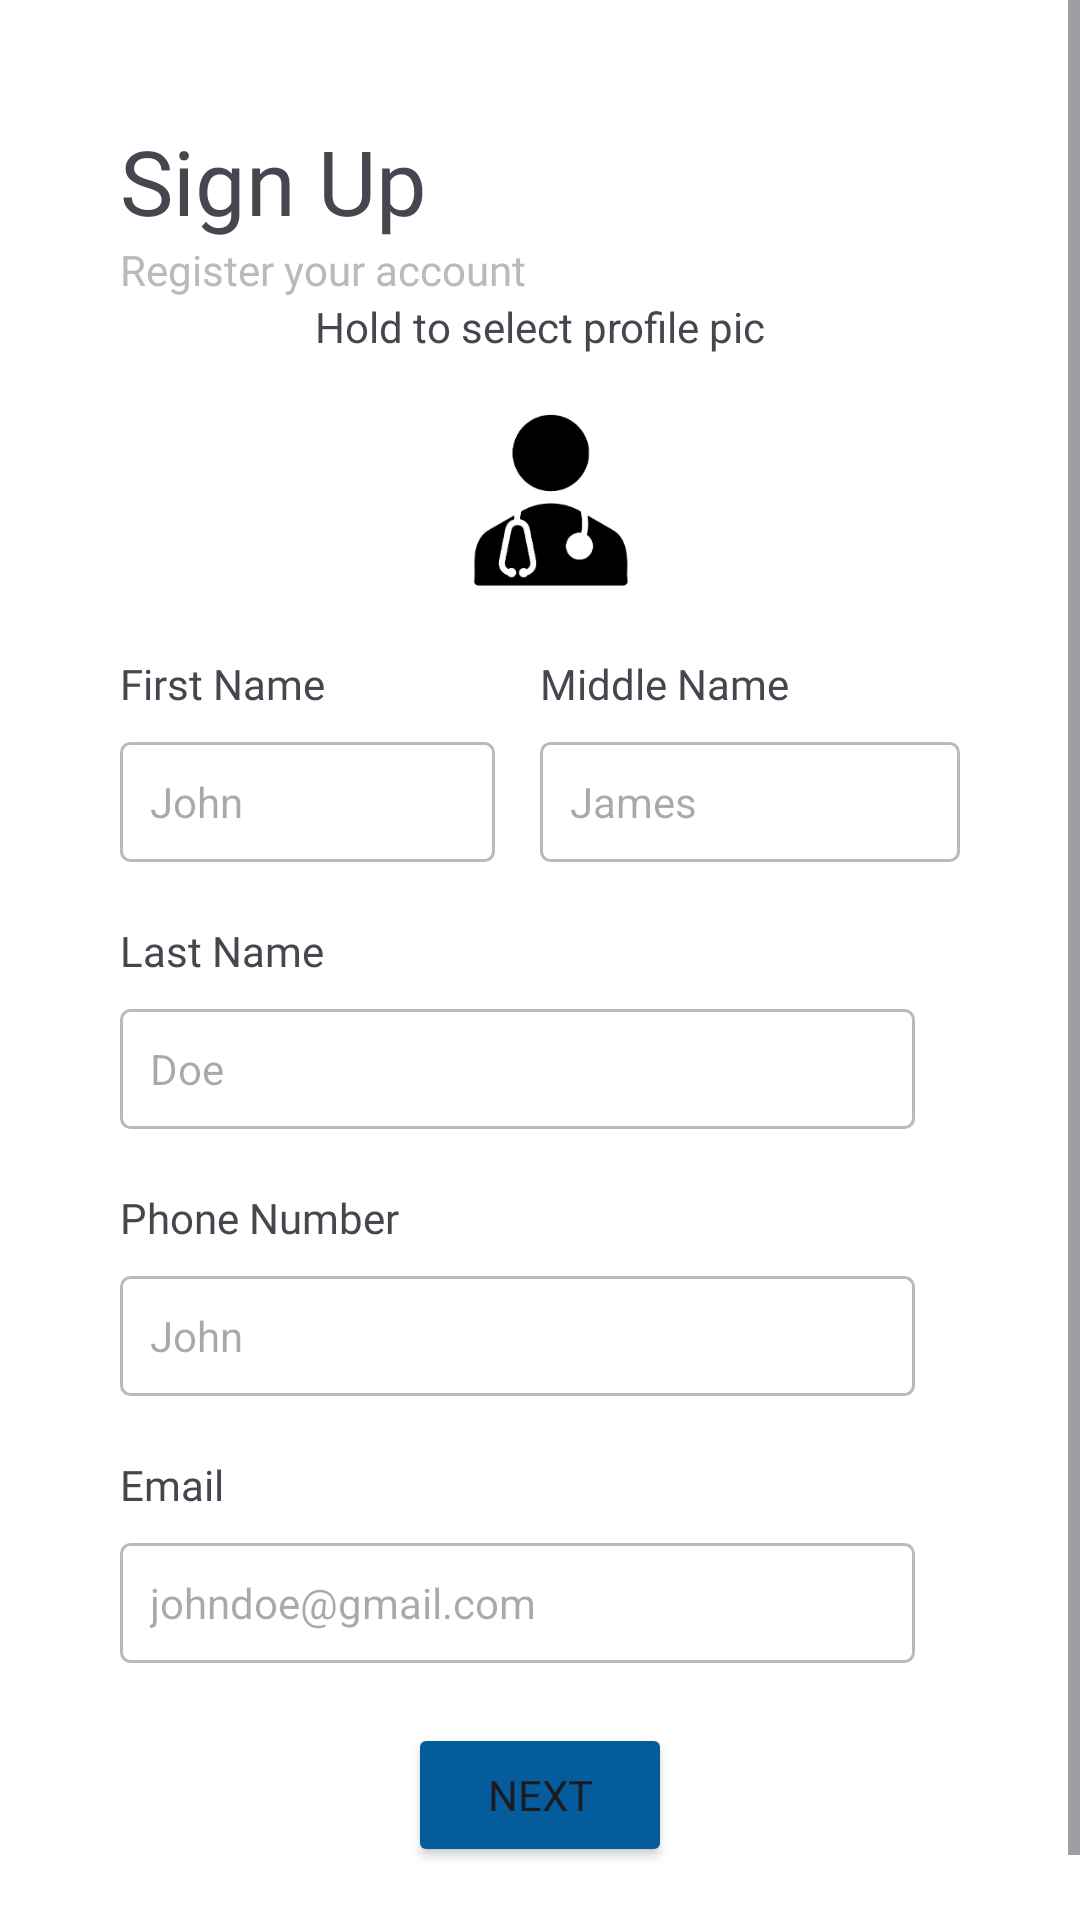

Where icons sit on this 1080*1920 app screen, as detection(x1, y1, x2, y2):
doc: detection(474, 414, 628, 586)
